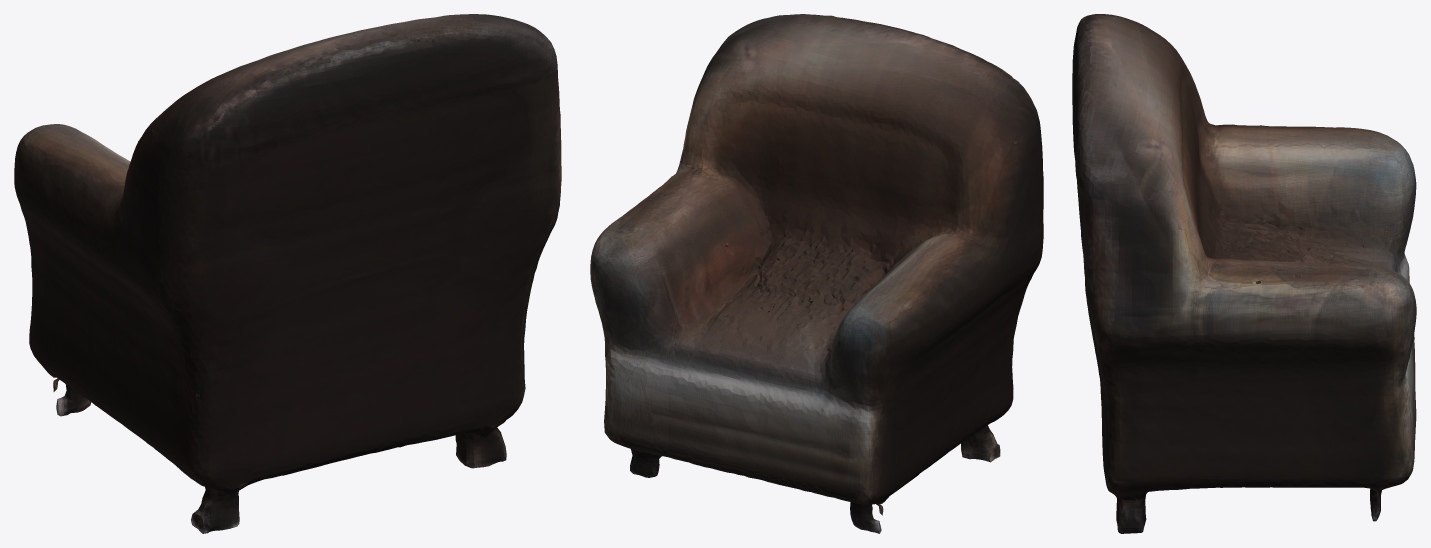
Rendered from a sofa chair.glb.
The picture shows the model from 3 angles, left to right: view 1: azimuth 30°, elevation 25°; view 2: azimuth 150°, elevation 25°; view 3: azimuth 270°, elevation 25°; orthographic projection. The views are drawn at different scales.
Bounding box in the file's own units: 0.8878 × 0.9831 × 0.7404.
1 material, 1 textured.
